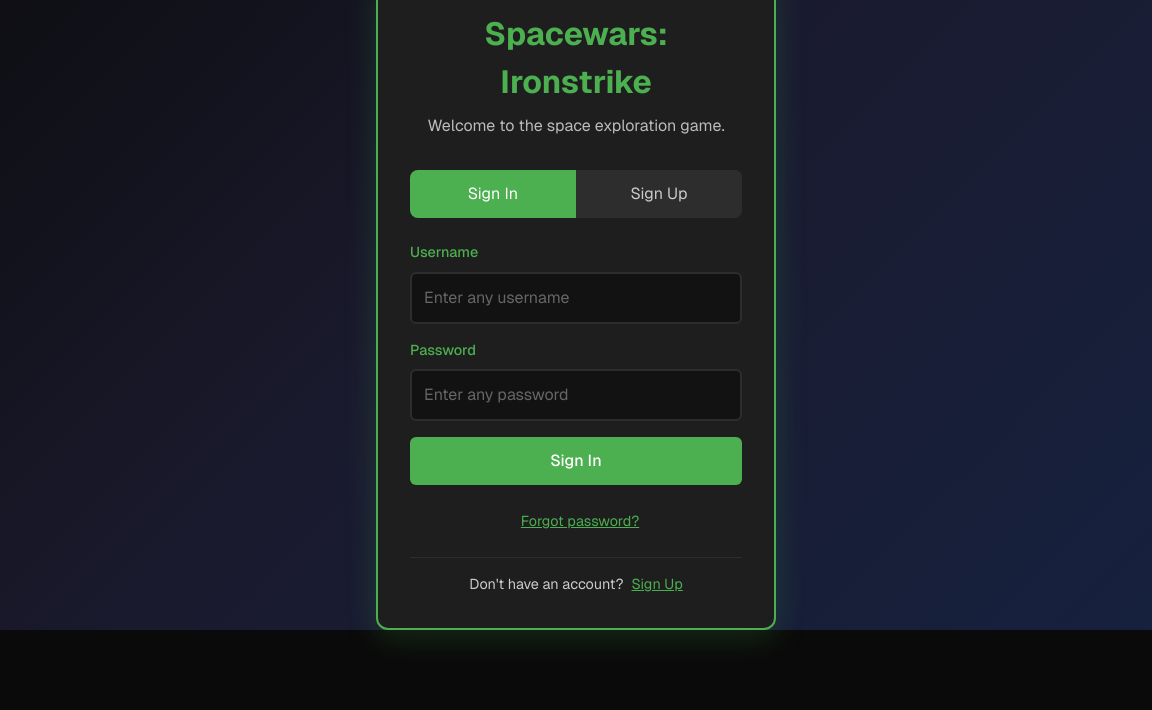
LoginPageComponent — forgot-password flow › forgotPassword_clickShowsResetForm
(page scrolled)
Click the button "Forgot password?" at (580, 522), box x1=521 y1=511 x2=639 y2=533
(page scrolled)
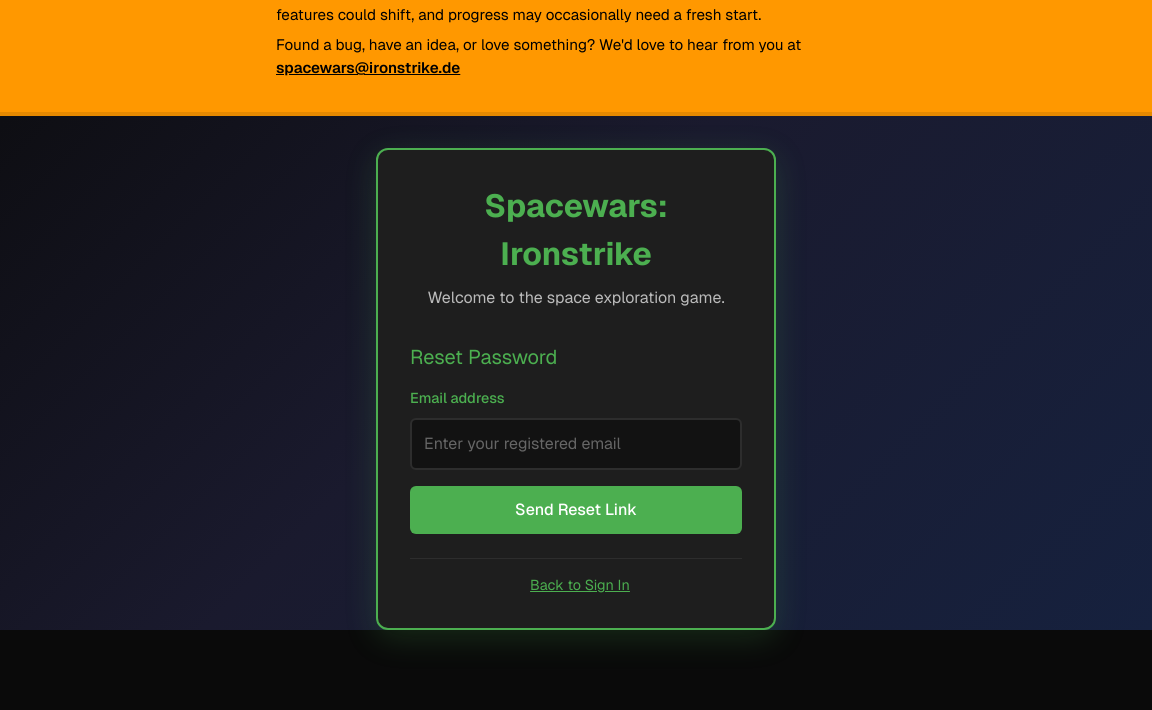
Expected: the field labelled "Email address" is shown, x1=410 y1=418 x2=742 y2=470
Expected: the button "Send Reset Link" is shown, x1=410 y1=486 x2=742 y2=534
